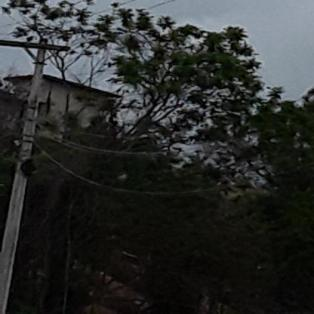Poste: (2, 39, 54, 302)
